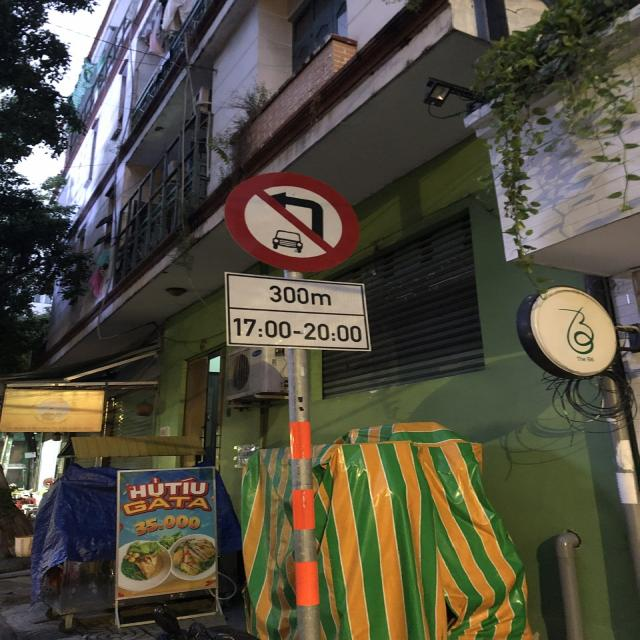Bien bao cam xe o to re trai: (220, 167, 362, 276)
